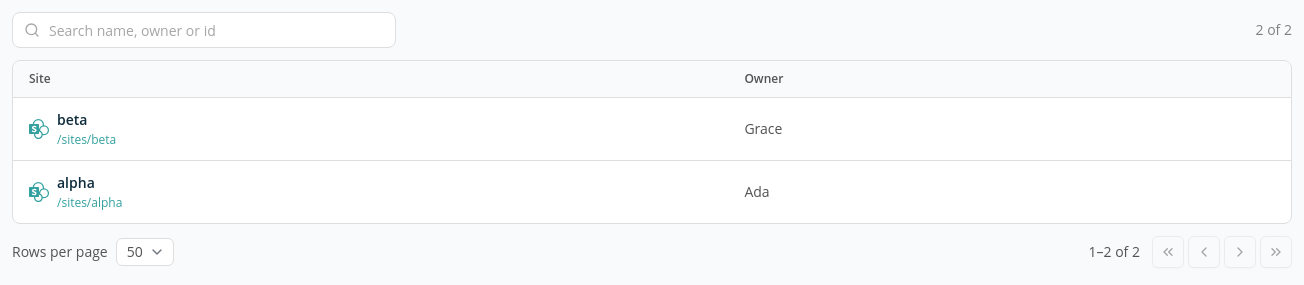
Test: SiteTable › filters on search across url and owner
Step 1. Type "Grace" into the search field → (204, 30), box [12,12,396,48]
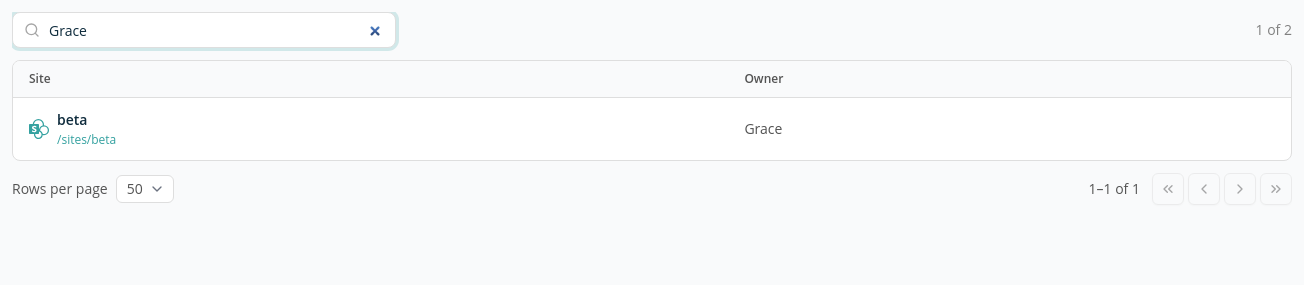
expect the text "Grace" is shown: met, box [744,119,782,138]
expect the text "Ada" is gone: met
